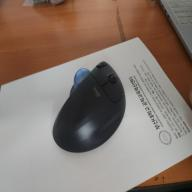mouse: (51, 61, 128, 154)
